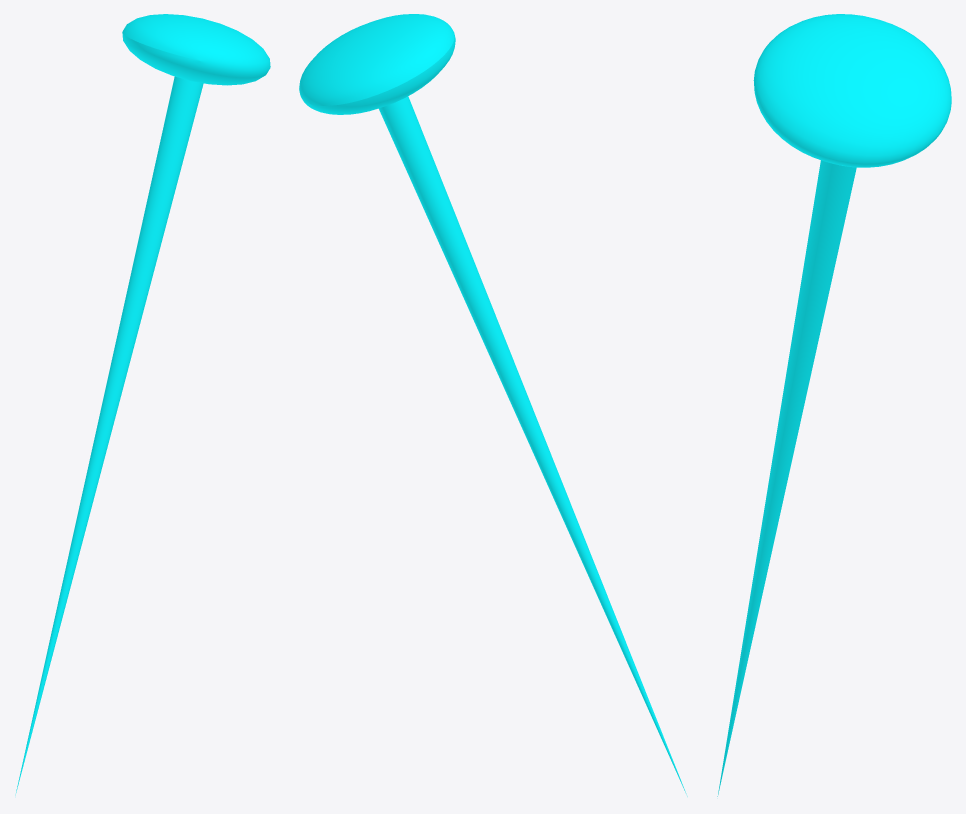
Rendered from nyt_insight__model___Mars_phoenix.glb.
3 views of the same model, side by side, from view 1: azimuth 30°, elevation 25°; view 2: azimuth 150°, elevation 25°; view 3: azimuth 270°, elevation 25° (orthographic). The views are drawn at different scales.
Visible parts, largest first — view 1: sphere5; view 2: sphere5; view 3: sphere5.
Part boxes in pixels (x1=…): sphere5: x1=15, y1=14, x2=270, y2=795; sphere5: x1=299, y1=14, x2=687, y2=796; sphere5: x1=717, y1=14, x2=951, y2=796.
Size of the model in its own units: 0.000448 by 0.001 by 0.000235.
